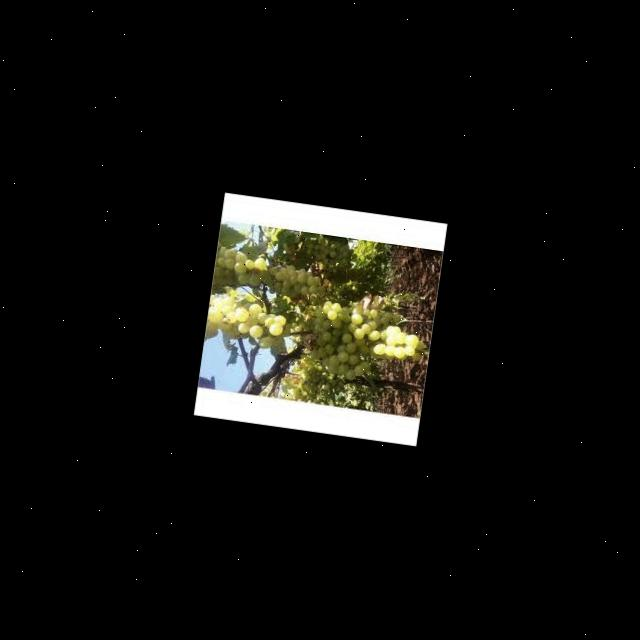grape: (290, 292, 419, 388)
